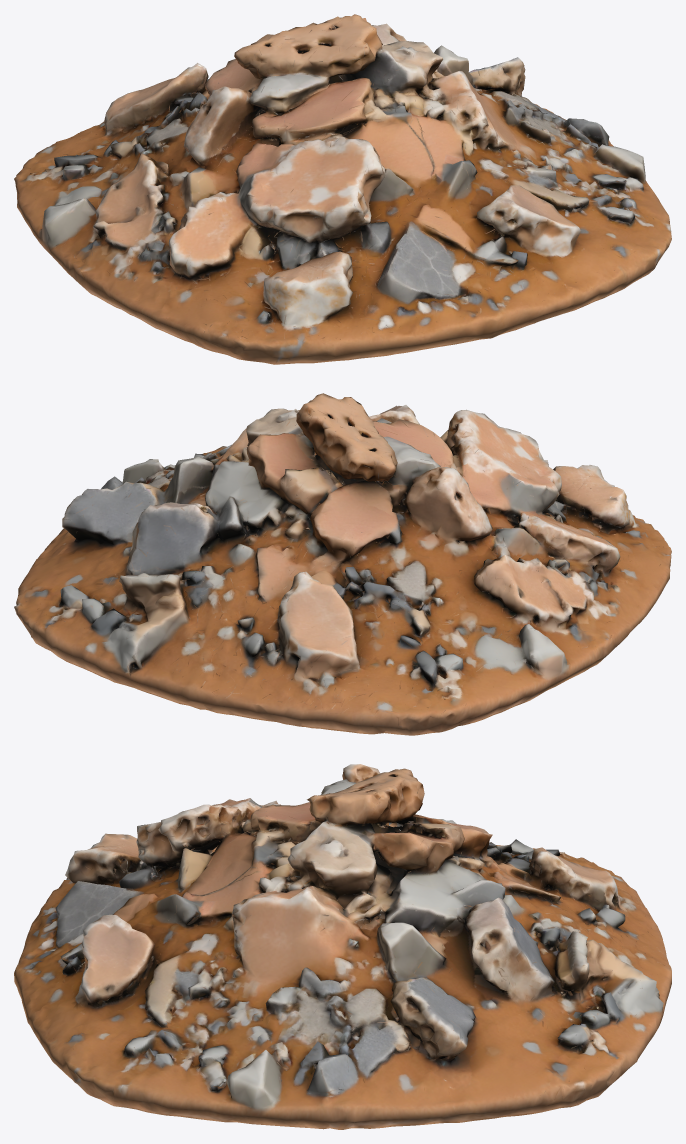
Rendered from Desert rock rubble.glb.
3 views of the same model, one above another, from view 1: azimuth 30°, elevation 25°; view 2: azimuth 150°, elevation 25°; view 3: azimuth 270°, elevation 25° (orthographic). The views are drawn at different scales.
Visible parts, largest first — view 1: Mesh_0; view 2: Mesh_0; view 3: Mesh_0.
Part boxes in pixels (x1,y1,x2,y2): Mesh_0: (14, 14, 671, 364); Mesh_0: (14, 393, 671, 735); Mesh_0: (14, 764, 671, 1129).
Bounding box in the file's own units: 2.75 × 1 × 2.76.
Materials: 1 (1 with a texture image).
